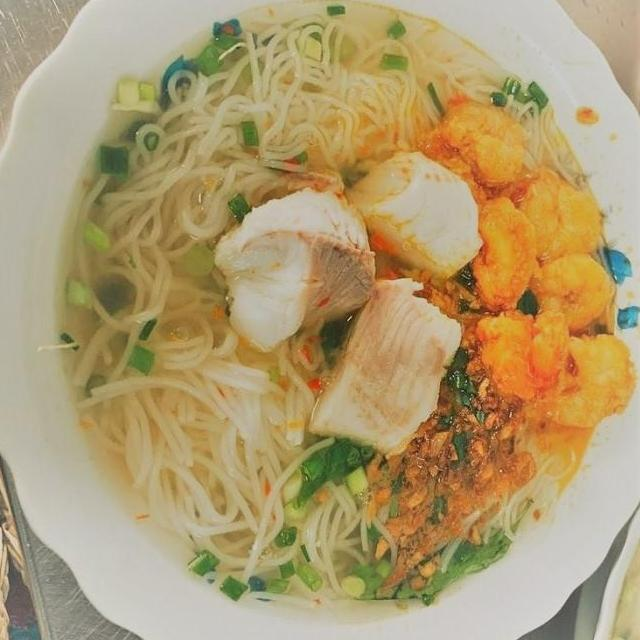bun: (35, 97, 268, 606), (46, 342, 360, 632), (72, 0, 466, 182), (432, 420, 580, 580)
bun ca: (15, 28, 631, 640)
ca: (296, 264, 474, 466), (206, 176, 384, 360), (327, 143, 490, 290)
tom: (450, 302, 578, 406), (504, 160, 606, 270), (537, 327, 640, 432), (432, 90, 534, 194), (462, 190, 540, 320), (520, 250, 622, 340)
